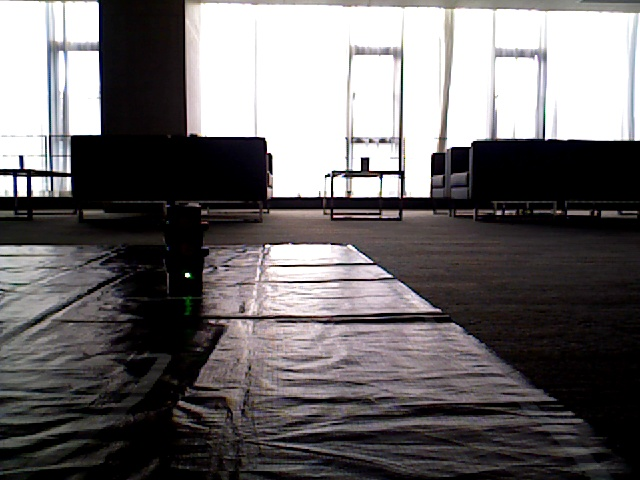green: (175, 213, 202, 285)
